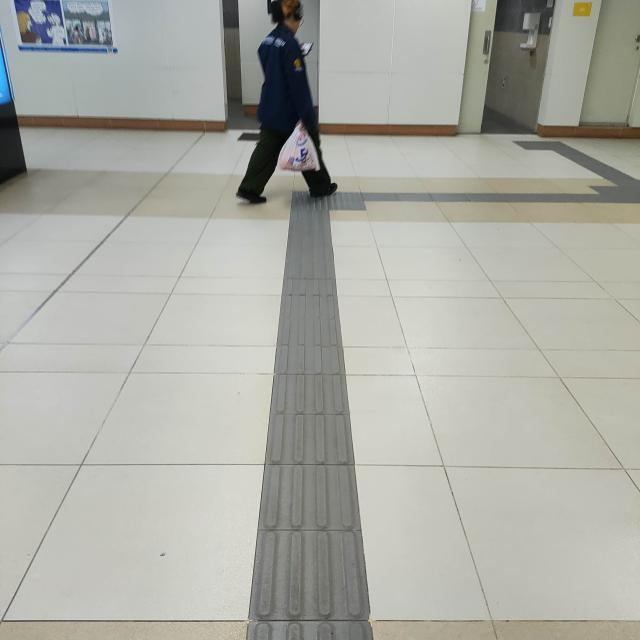lurus: (260, 214, 366, 640)
